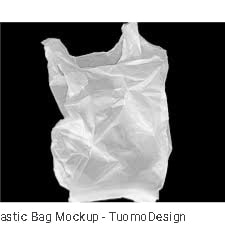kantong: (42, 22, 171, 202)
